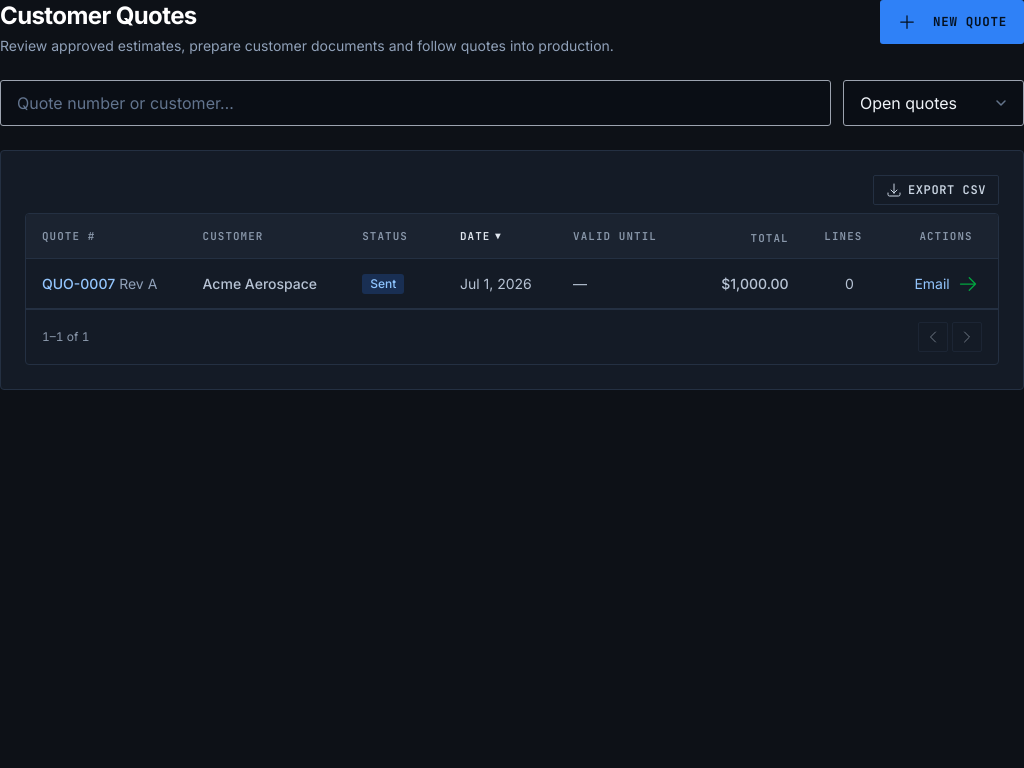
Scenario: Quotes convert-to-work-order confirm (info variant) › keeps a committed conversion successful when only the detail refresh fails
Click the button named "Convert to Work Order". click: x=968, y=284
box: x1=958 y1=274 x2=978 y2=294
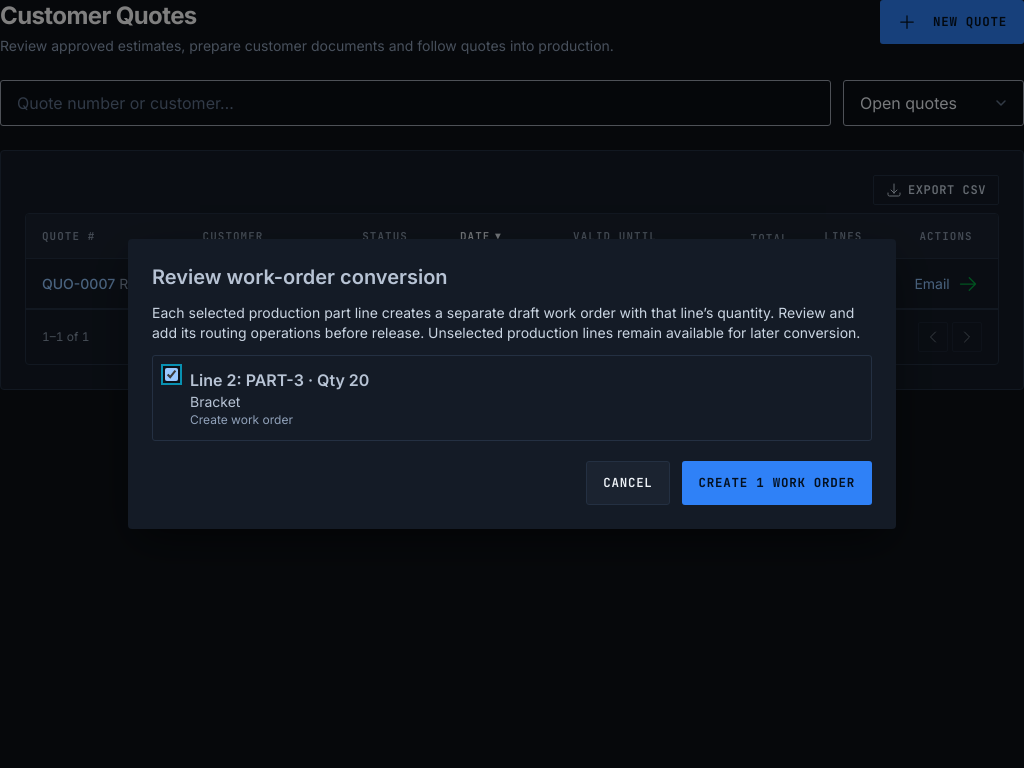
Click the button "Create 1 work order". click: x=777, y=483
box: x1=682 y1=461 x2=872 y2=505
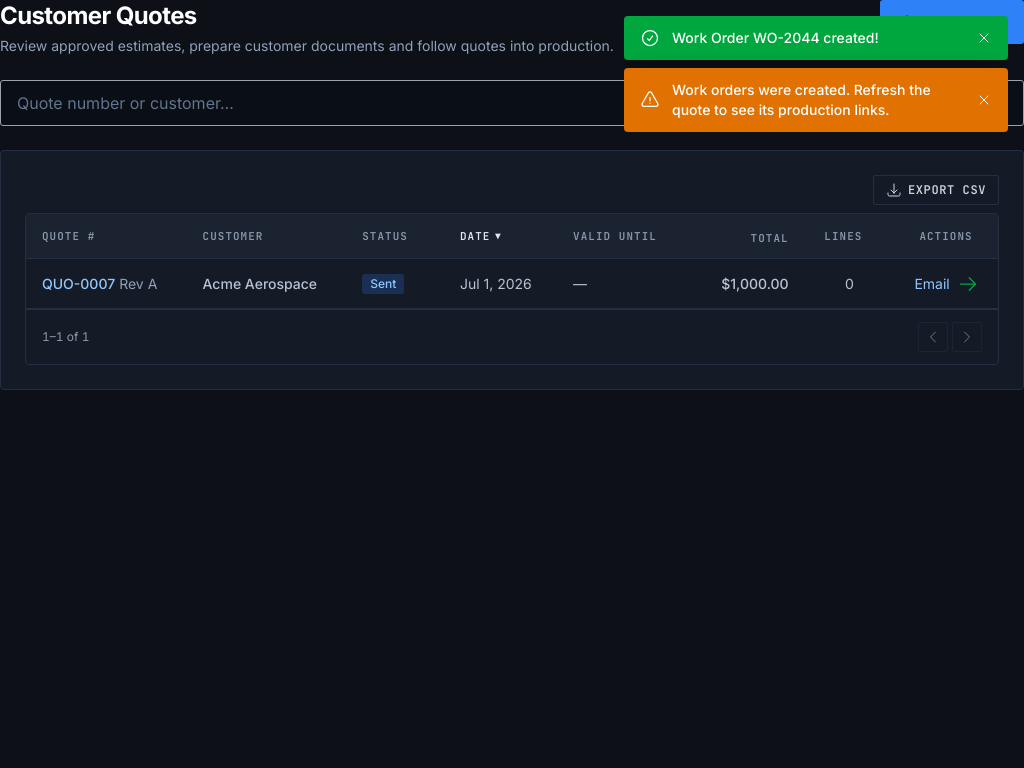
Expected: the text "Work orders were created. Refresh the quote to see its production links." is shown, x1=672 y1=80 x2=964 y2=120
Expected: the dialog is gone
